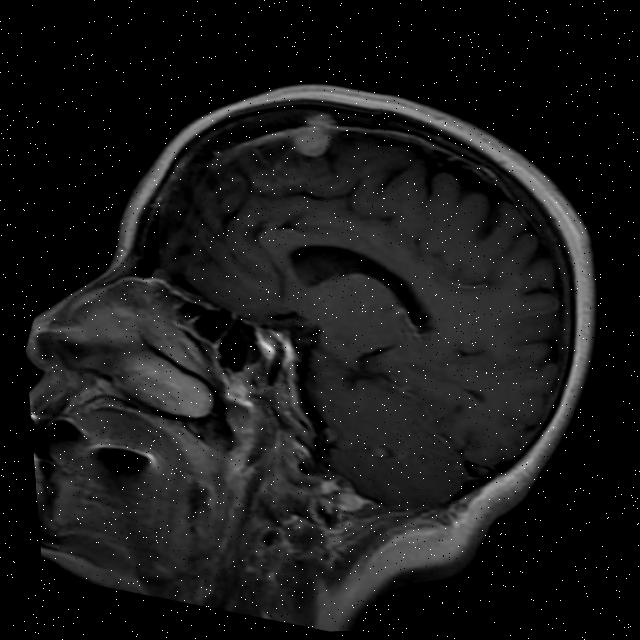Meningioma: (284, 102, 341, 161)
